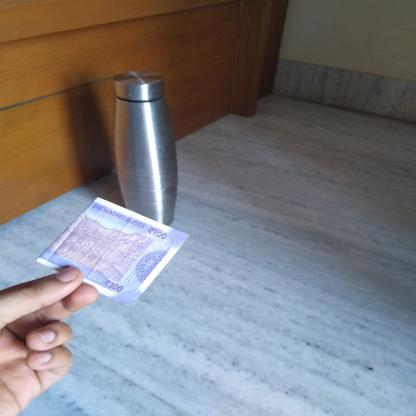New100Back: (38, 198, 176, 304)
